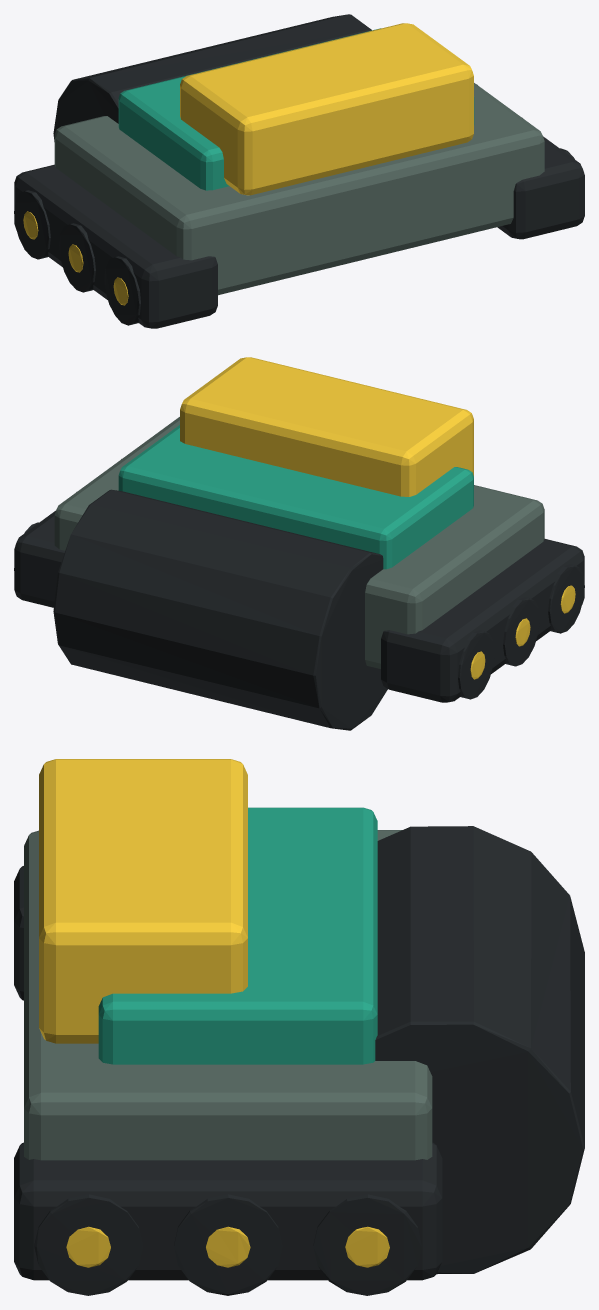
The model's file is SM_Coalition_CO_YuanCollector_LOD1.fbx.
The picture shows the model from 3 angles, top to bottom: view 1: azimuth 30°, elevation 25°; view 2: azimuth 150°, elevation 25°; view 3: azimuth 270°, elevation 25°; orthographic projection. The views are drawn at different scales.
Visible parts, largest first — view 1: LOD01_SM_Coalition_CO_YuanCollector; view 2: LOD01_SM_Coalition_CO_YuanCollector; view 3: LOD01_SM_Coalition_CO_YuanCollector.
Part boxes in pixels (x1,y1,x2,y2): LOD01_SM_Coalition_CO_YuanCollector: (14, 14, 584, 328); LOD01_SM_Coalition_CO_YuanCollector: (14, 357, 584, 730); LOD01_SM_Coalition_CO_YuanCollector: (14, 759, 584, 1295).
Bounding box in the file's own units: 563 × 401 × 260.
